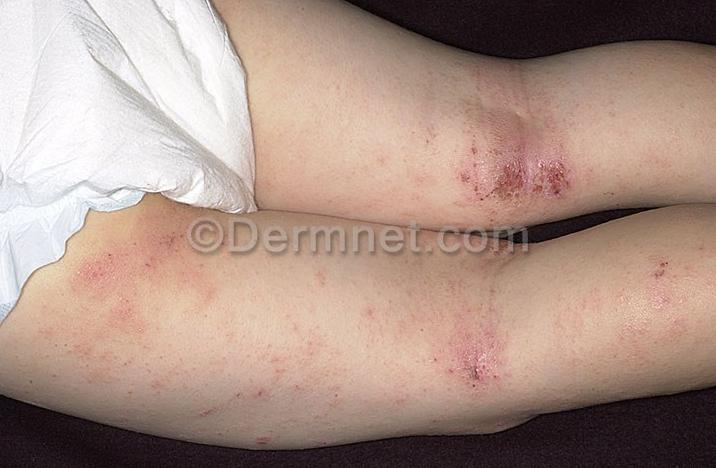eritema 1: (388, 250, 510, 398), (466, 63, 576, 203), (86, 215, 219, 297)
excoriacion 1: (646, 256, 676, 286)
excoriacion 2: (456, 332, 505, 393)
excoriacion 3: (456, 136, 591, 210)
xerosis 2: (447, 57, 592, 211)
